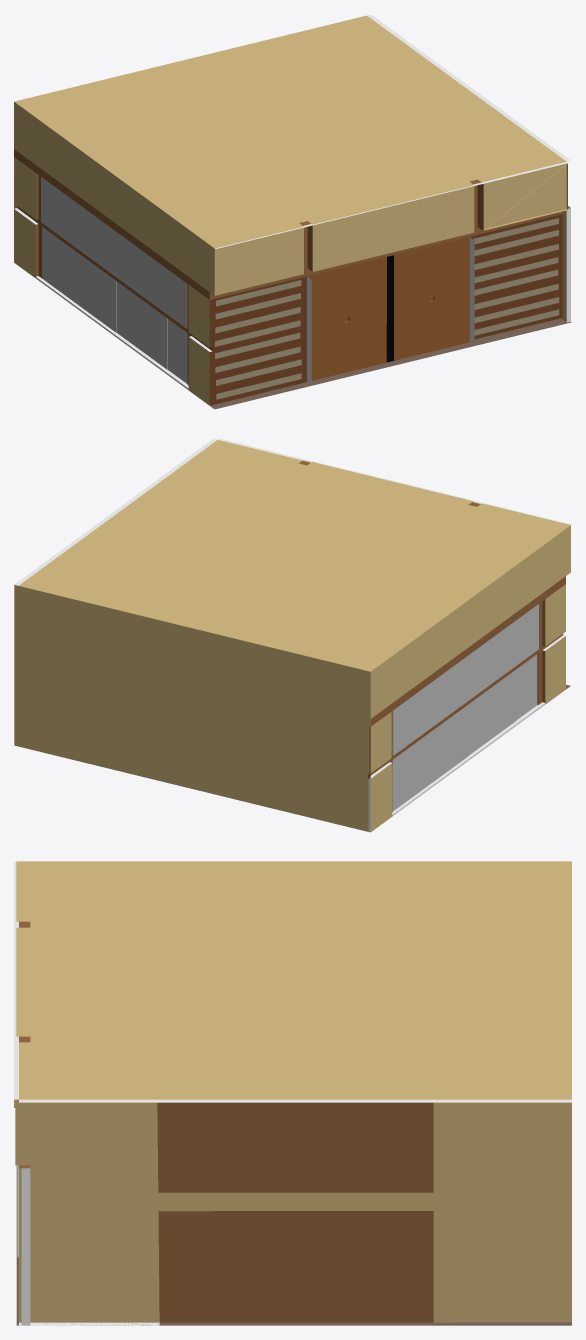
File: Japanese room.fbx
3 renders of one model, top to bottom at view 1: azimuth 30°, elevation 25°; view 2: azimuth 150°, elevation 25°; view 3: azimuth 270°, elevation 25°, orthographic. The views are drawn at different scales.
Parts seen in each view (by area): view 1: Model; view 2: Model; view 3: Model.
Boxes of the visible parts, x1,y1,x2,y2 form: Model: (14,14,571,409); Model: (14,438,571,832); Model: (14,861,571,1325).
Bounding box in the file's own units: 410 × 176 × 400.
